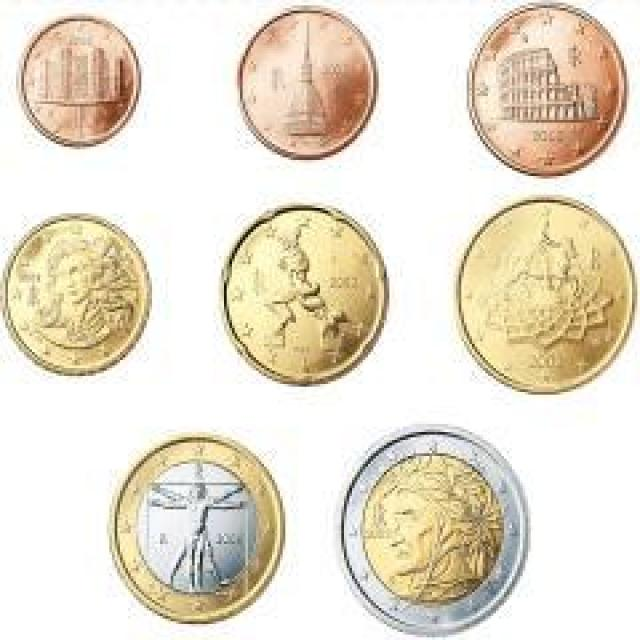10c: (3, 212, 150, 378)
1c: (16, 11, 143, 152)
1e: (105, 432, 289, 625)
20c: (219, 203, 390, 387)
2c: (238, 7, 377, 160)
2e: (332, 418, 535, 636)
50c: (452, 196, 636, 396)
5c: (463, 3, 628, 177)
